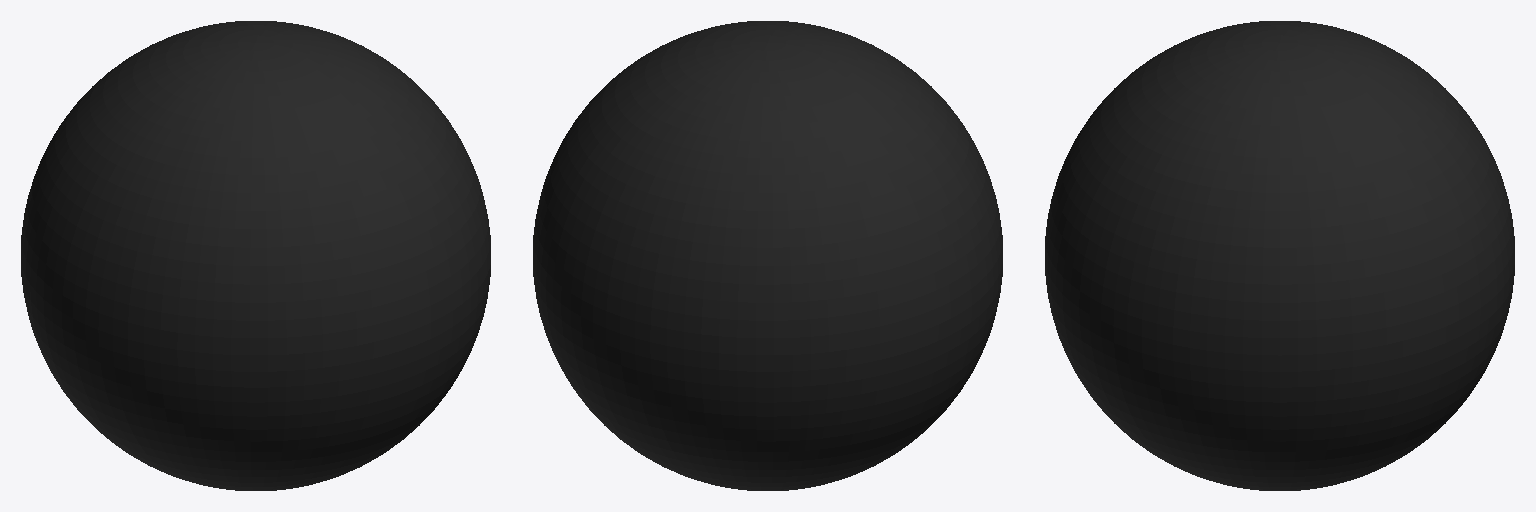
The model's file is Space.obj.
3 views of the same model, side by side, from view 1: azimuth 30°, elevation 25°; view 2: azimuth 150°, elevation 25°; view 3: azimuth 270°, elevation 25° (orthographic).
Visible parts, largest first — view 1: Mars_Sphere; view 2: Mars_Sphere; view 3: Mars_Sphere.
Part boxes in pixels (bbox=[...]): Mars_Sphere: bbox=[21, 21, 490, 490]; Mars_Sphere: bbox=[533, 21, 1002, 490]; Mars_Sphere: bbox=[1045, 21, 1514, 490].
Size of the model in its own units: 7 by 7 by 7.